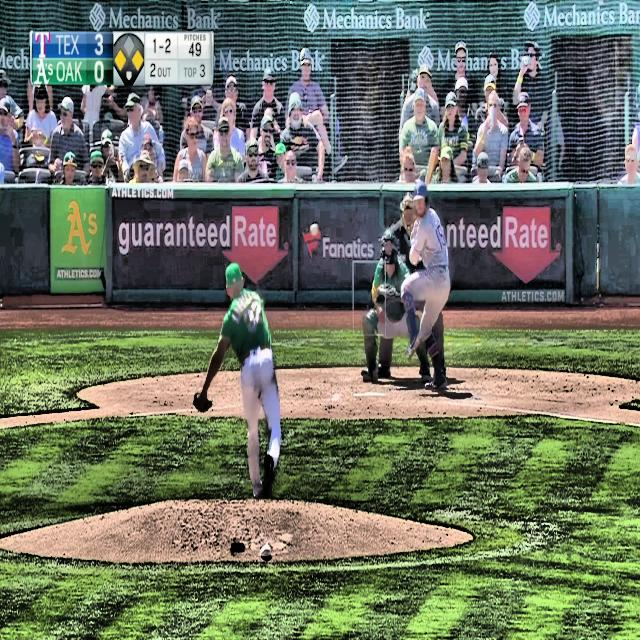baseball: (309, 221, 319, 237)
